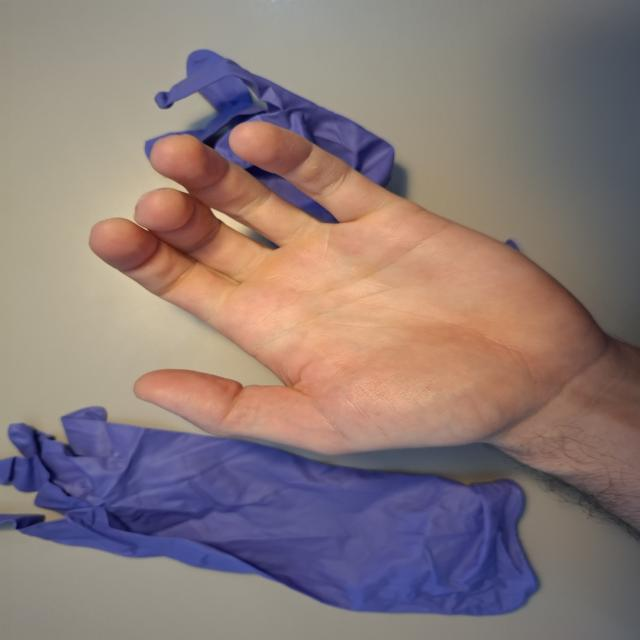glove_off: (84, 119, 617, 482)
